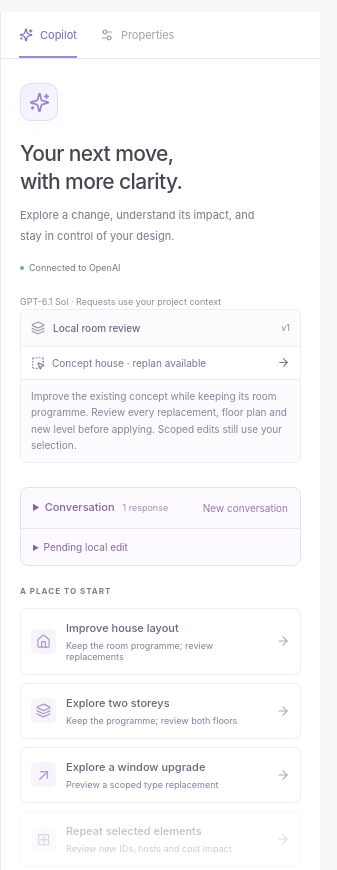
Test: local room edit review › loads a pending local intent as history without creating an unreviewed replacement layout
Click the heading "Pending local edit". click: (86, 547)
box: x1=44 y1=541 x2=128 y2=553
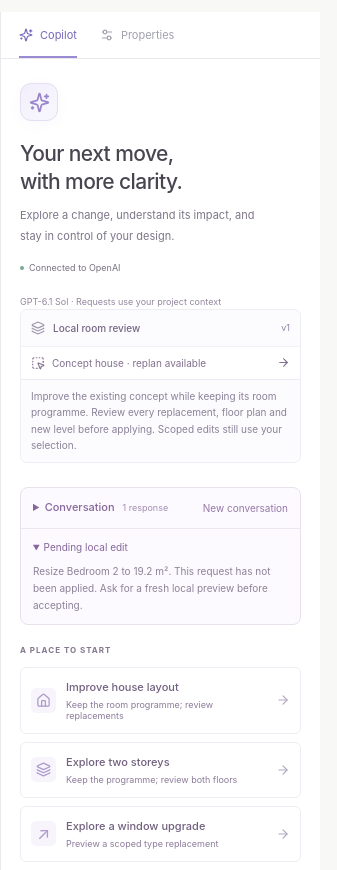
Check: the text "Resize Bedroom 2 to 19.2 m²" is shown, box x1=33 y1=565 x2=171 y2=577
Check: the text "Ask for a fresh local preview before accepting" is shown, box x1=33 y1=565 x2=270 y2=611
